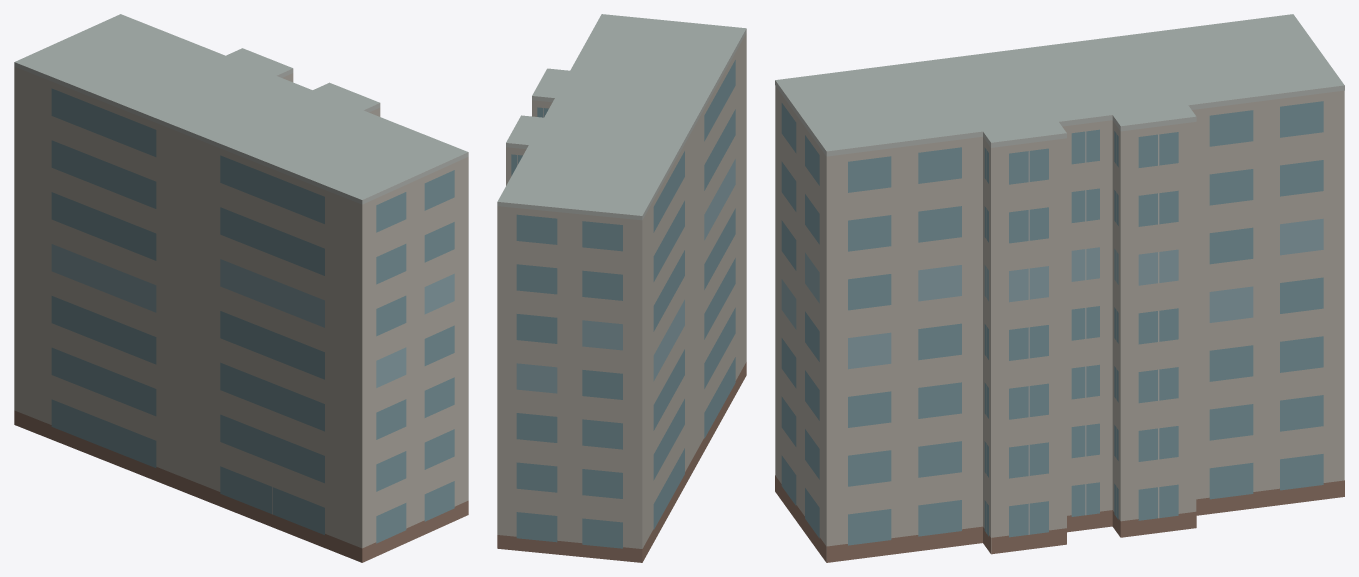
Rendered from survey-upis-32614654.glb.
3 views of the same model, side by side, from view 1: azimuth 30°, elevation 25°; view 2: azimuth 150°, elevation 25°; view 3: azimuth 270°, elevation 25° (orthographic). The views are drawn at different scales.
Parts seen in each view (by area): view 1: survey-upis-32614654.tmp; view 2: survey-upis-32614654.tmp; view 3: survey-upis-32614654.tmp.
Boxes of the visible parts, x1,y1,x2,y2 form: survey-upis-32614654.tmp: (14,14,468,562); survey-upis-32614654.tmp: (497,14,746,562); survey-upis-32614654.tmp: (775,14,1344,562).
Bounding box in the file's own units: 13.98 × 19.5 × 24.48.
